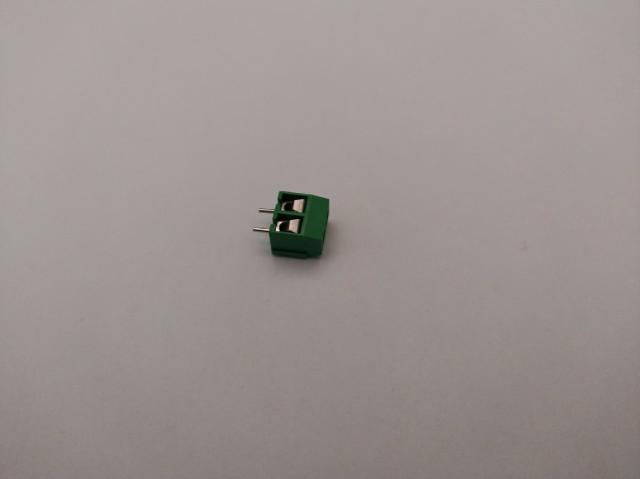terminal_block: (252, 191, 330, 257)
